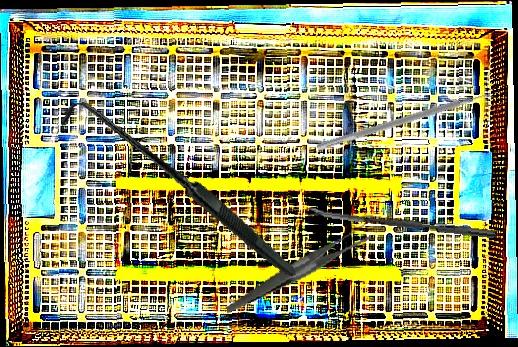Dressing Forceps: (215, 222, 380, 314)
Hook Surgical: (57, 68, 297, 314)
Spatula Surgical: (316, 86, 497, 159)
Surgical Spoon: (305, 206, 498, 239)
